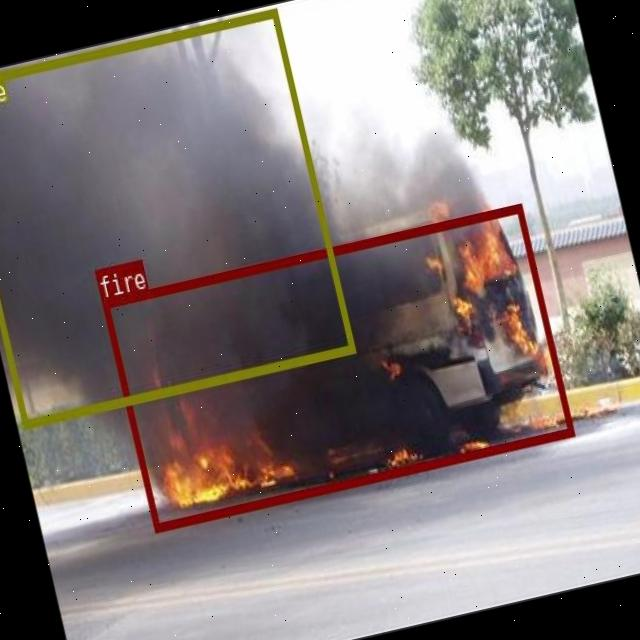fire: (100, 201, 572, 530)
smoke: (0, 8, 353, 426)
